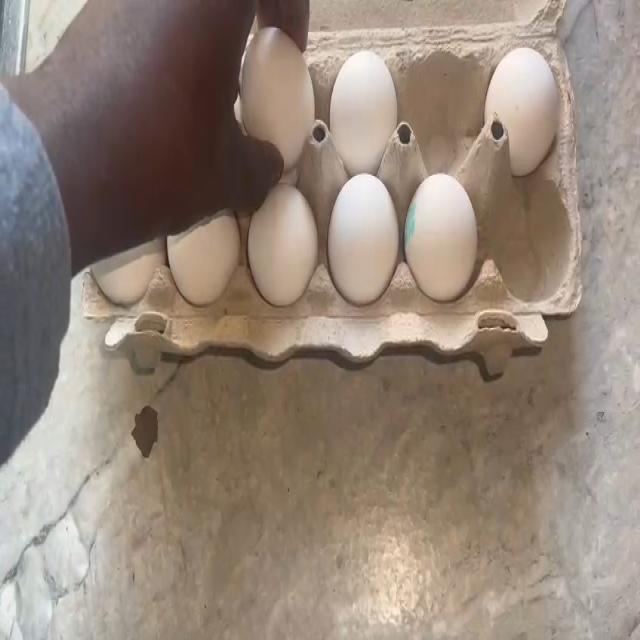Egg: (412, 175, 482, 302), (484, 46, 558, 153), (333, 171, 398, 291), (261, 190, 318, 303), (246, 40, 308, 141), (332, 56, 385, 152), (180, 228, 237, 310), (113, 254, 152, 300)
